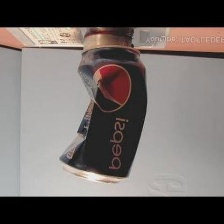can: (54, 44, 155, 187)
